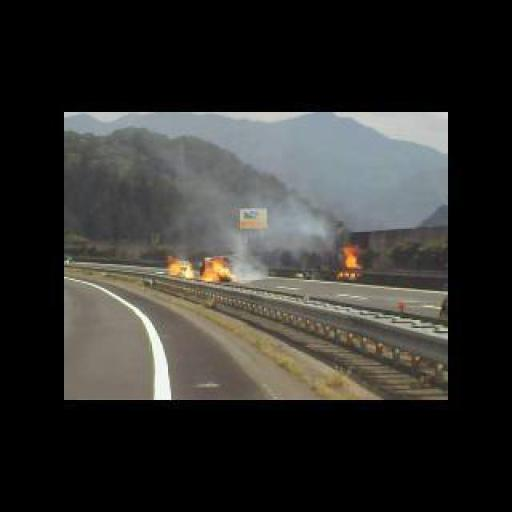smoke: (244, 181, 338, 258), (228, 248, 270, 285), (336, 242, 365, 278), (200, 258, 229, 282), (166, 254, 192, 277)
